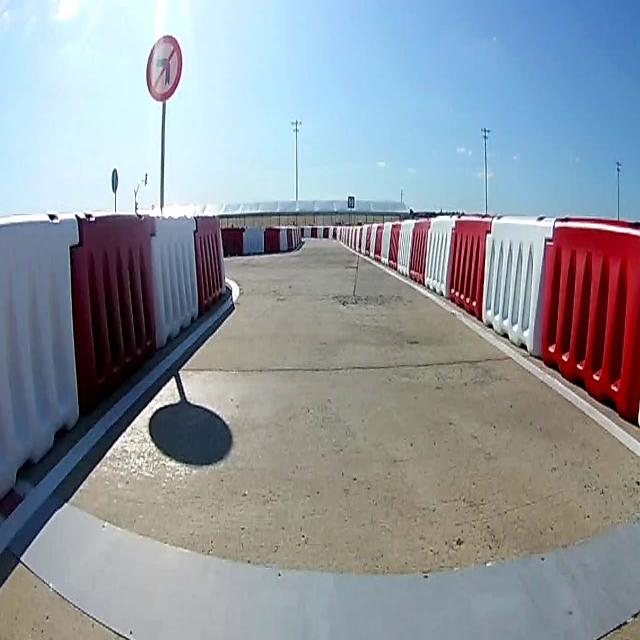soladonulmez: (146, 37, 182, 103)
